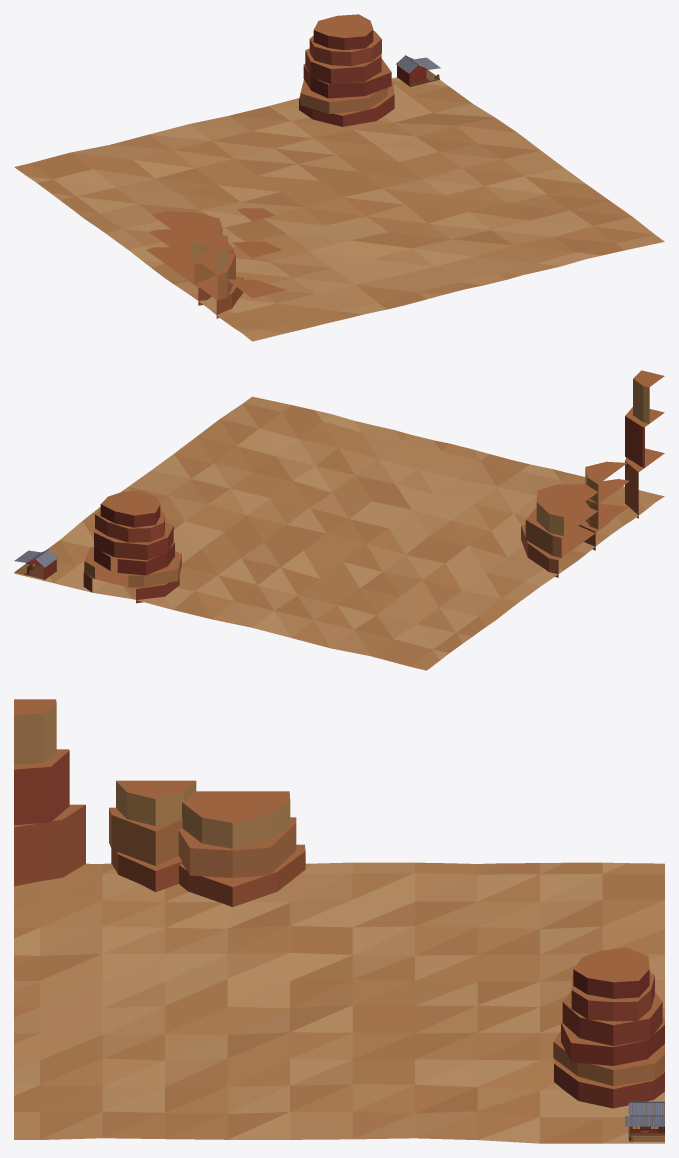
3 renders of one model, top to bottom at view 1: azimuth 30°, elevation 25°; view 2: azimuth 150°, elevation 25°; view 3: azimuth 270°, elevation 25°, orthographic. The views are drawn at different scales.
Parts seen in each view (by area): view 1: baked; view 2: baked; view 3: baked.
Part boxes in pixels (x1,y1,x2,y2): baked: (14,14,664,341); baked: (14,370,664,670); baked: (14,699,664,1143).
Bounding box in the file's own units: 125 × 35.84 × 125.
